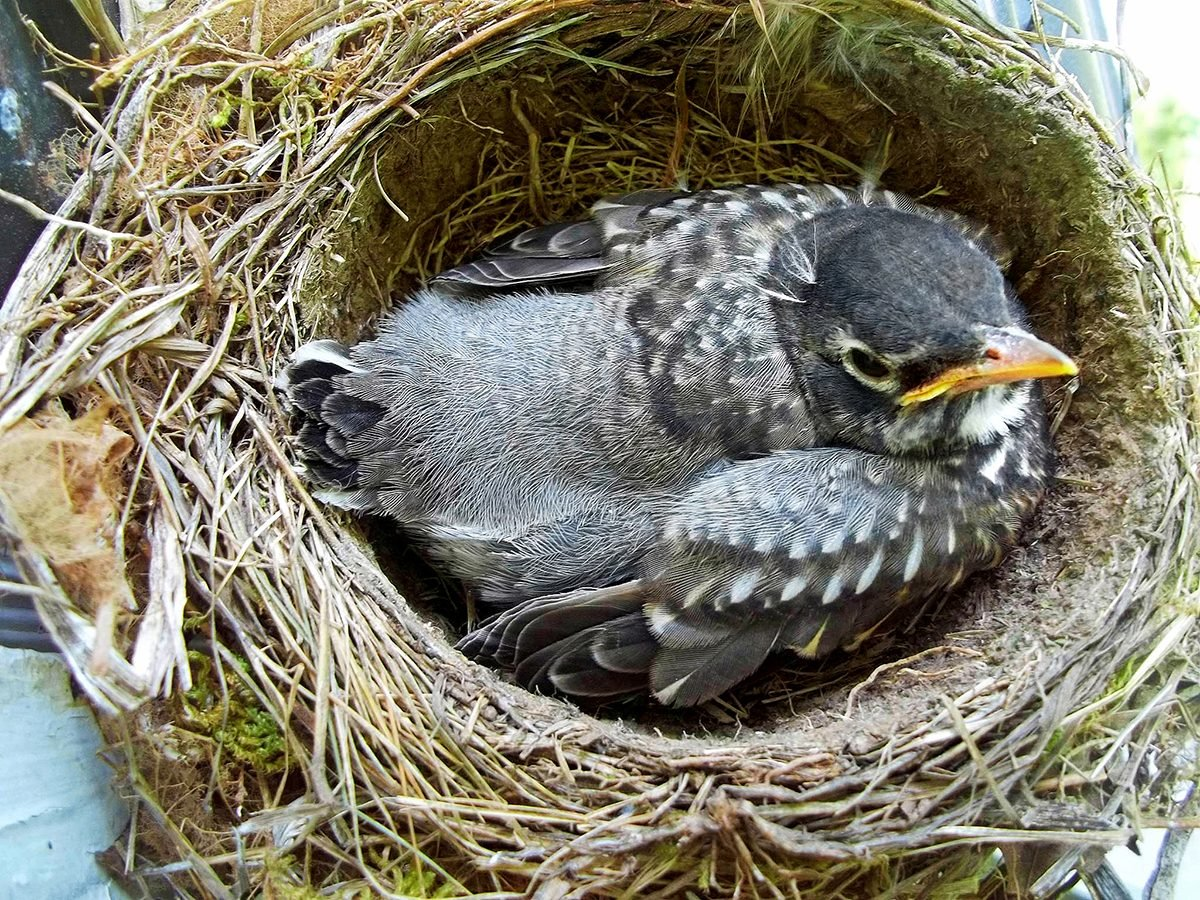bird: (253, 146, 1123, 738)
